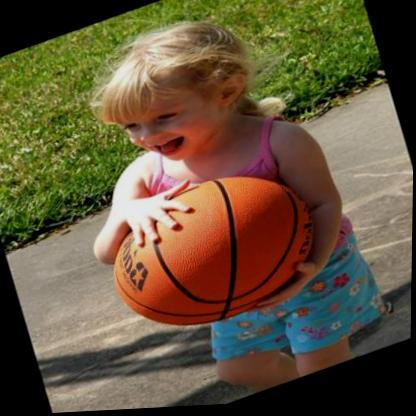basketball: (93, 149, 337, 356)
